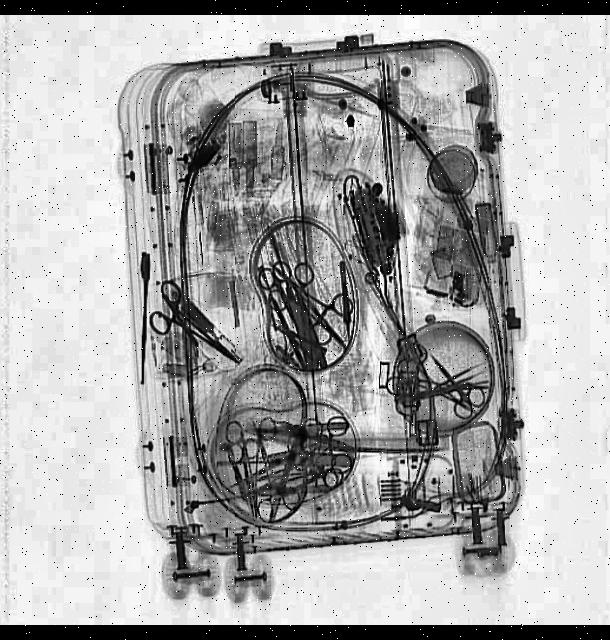Scissors: (135, 274, 255, 386), (248, 242, 356, 348), (412, 340, 490, 424), (222, 418, 280, 516)
